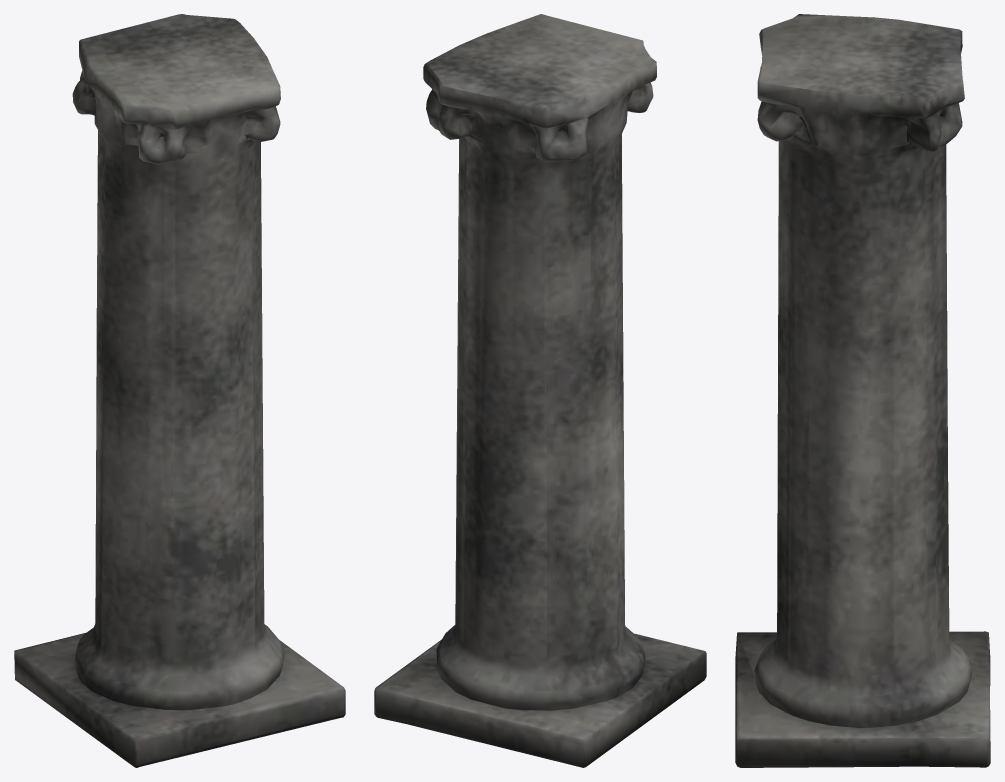
Rendered from ancient-granite-column-v001.glb.
3 renders of one model, left to right at view 1: azimuth 30°, elevation 25°; view 2: azimuth 150°, elevation 25°; view 3: azimuth 270°, elevation 25°, orthographic. The views are drawn at different scales.
Visible parts, largest first — view 1: ancient-granite-column; view 2: ancient-granite-column; view 3: ancient-granite-column.
Part boxes in pixels (<box>): ancient-granite-column: <box>14,14,345,767</box>; ancient-granite-column: <box>374,14,706,767</box>; ancient-granite-column: <box>735,14,990,767</box>.
Size of the model in its own units: 0.6841 by 1.98 by 0.693.
Materials: 1 (1 with a texture image).
